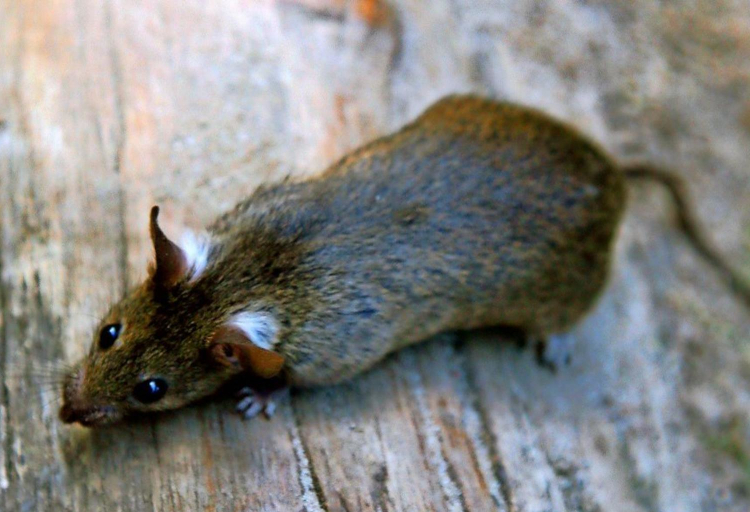rat: (45, 75, 666, 445)
